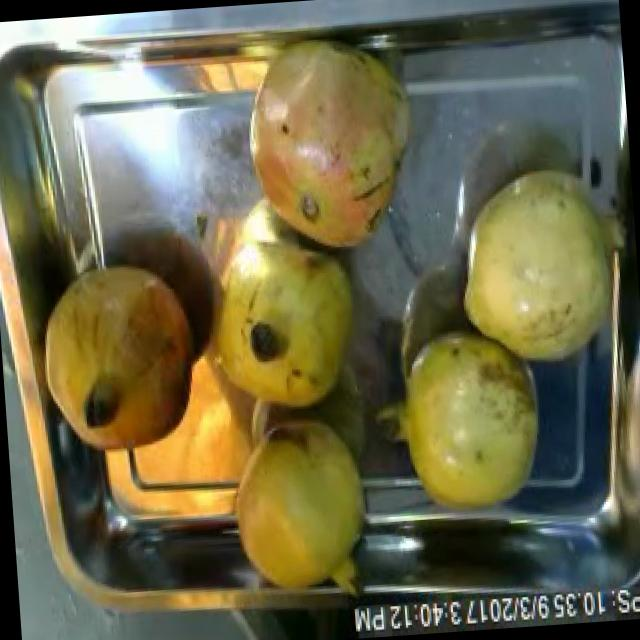fruit: (226, 25, 432, 268), (444, 152, 638, 382), (29, 246, 207, 468), (369, 315, 552, 524), (218, 397, 382, 612), (200, 280, 356, 422)
